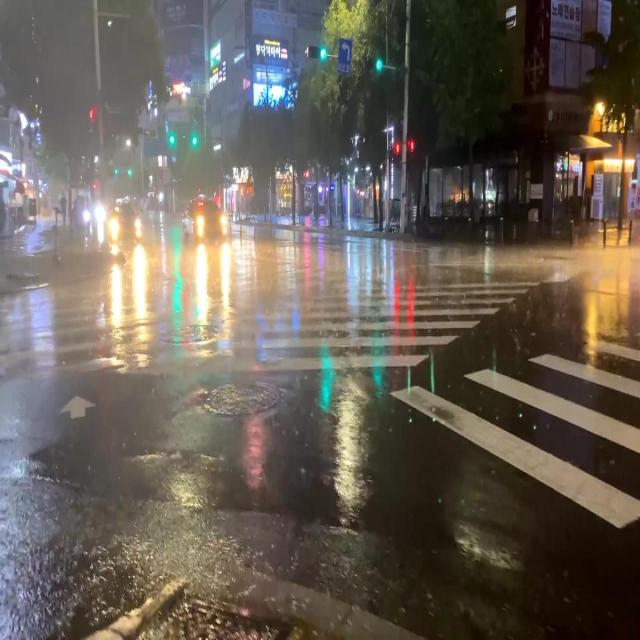Car: (180, 197, 227, 244), (102, 201, 143, 239)
